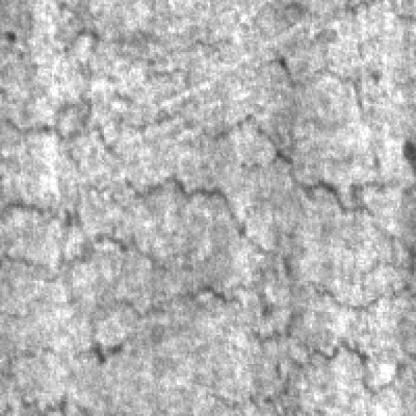crazing: (6, 173, 372, 339), (8, 0, 296, 194), (256, 254, 416, 394)
